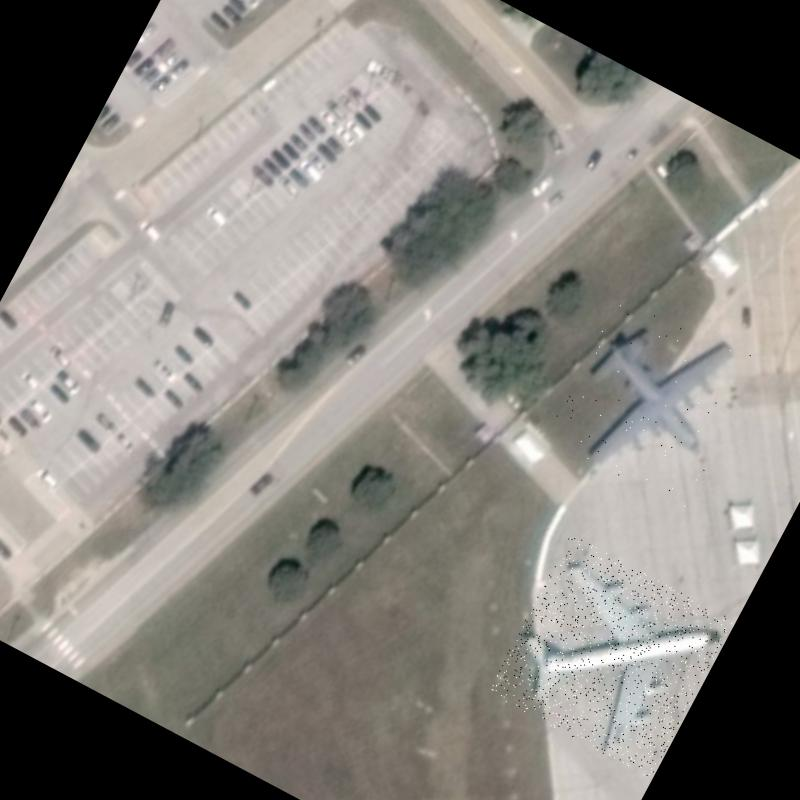A11: (486, 533, 734, 778)
A2: (543, 284, 767, 513)
